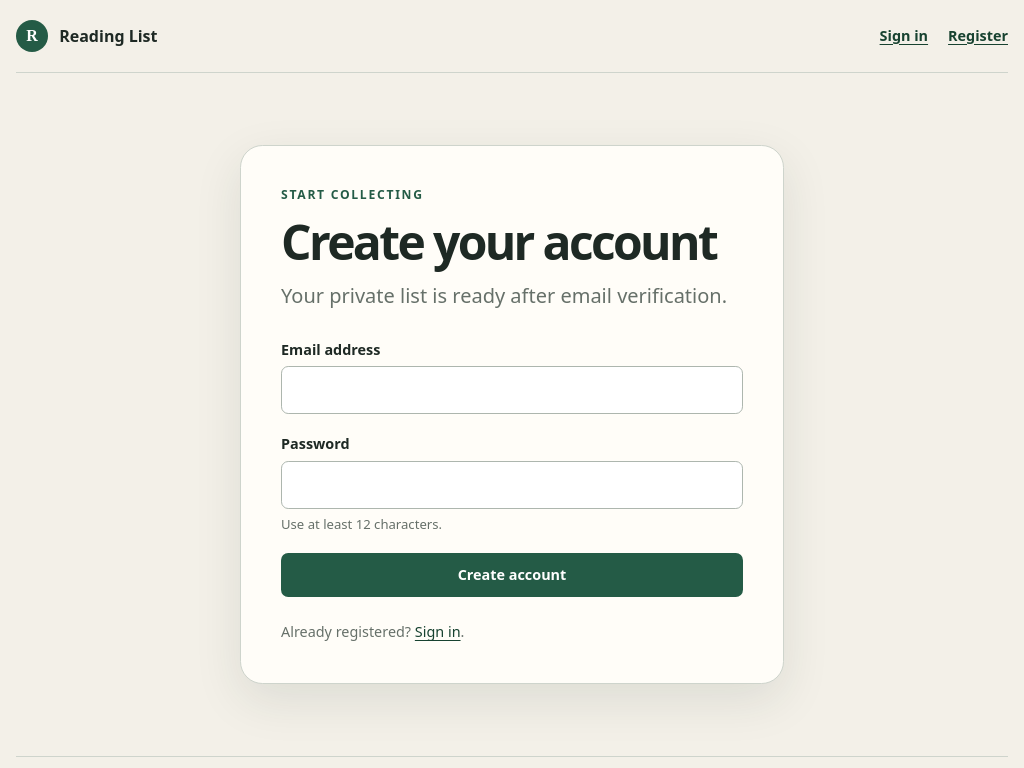
Test case: account lifecycle › shows the enumeration-safe accepted registration state
expect the heading "Create your account" is shown: met, box [281, 216, 743, 266]
Step 1. Type "new@example.test" into the field labelled "Email address" → (512, 390), box [281, 366, 743, 414]
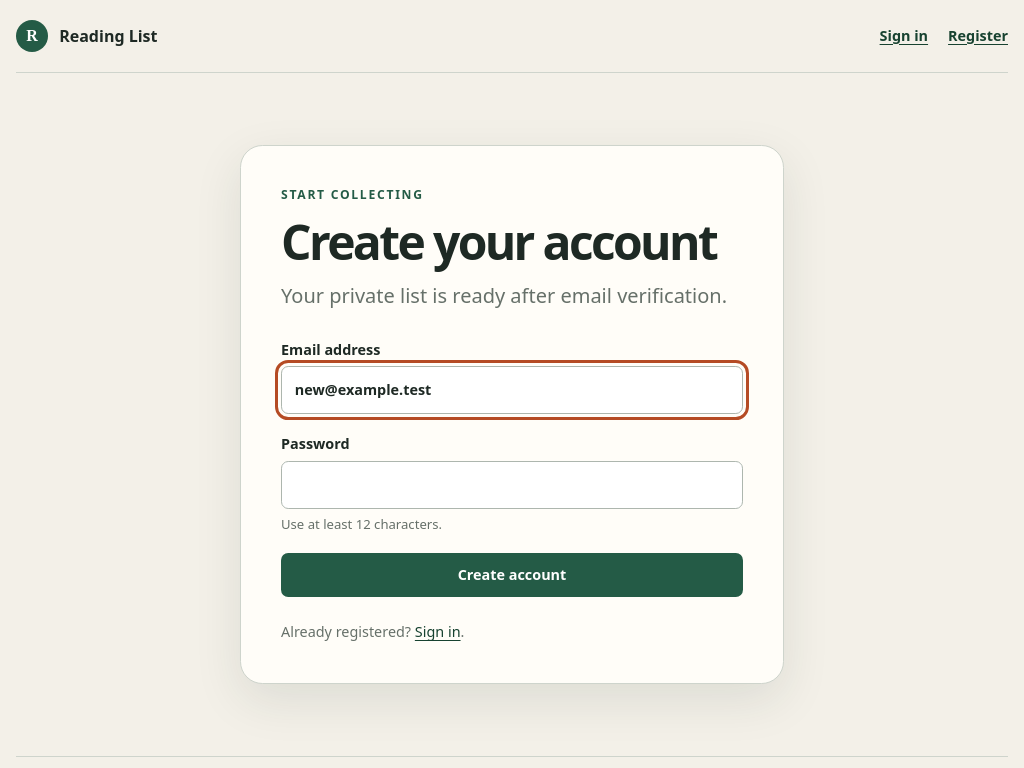
Step 2. Type "a sufficiently long password" into the password field labelled "Password" → (512, 485), box [281, 461, 743, 509]
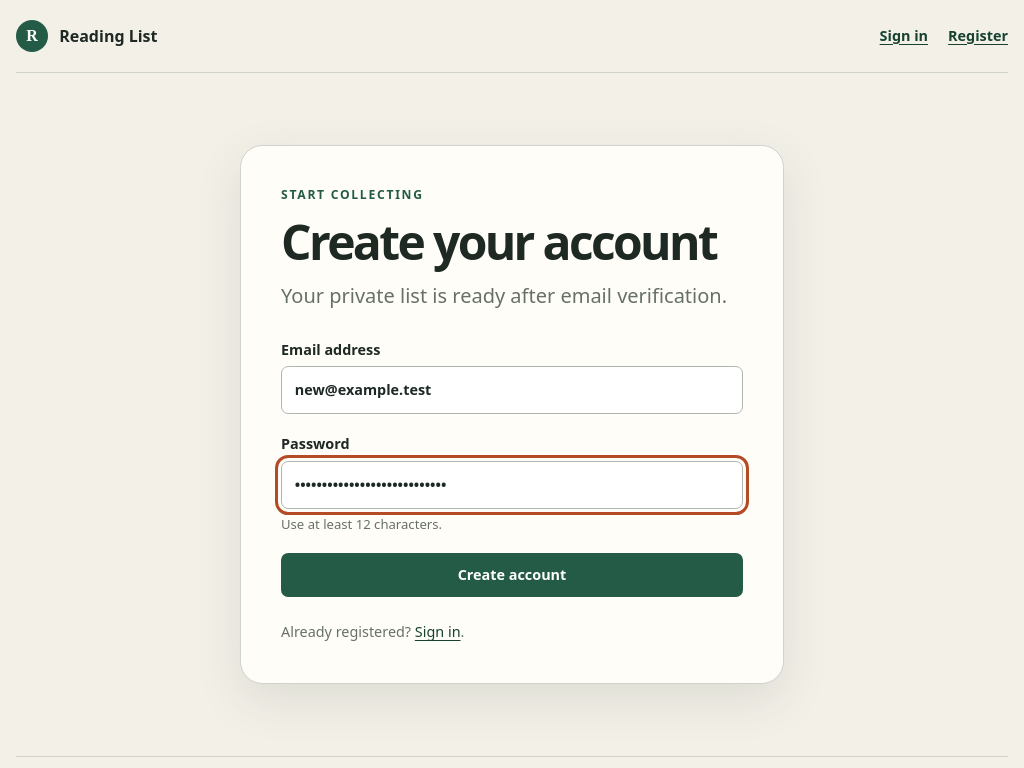
Step 3. Click the button "Create account" → (512, 575), box [281, 553, 743, 597]
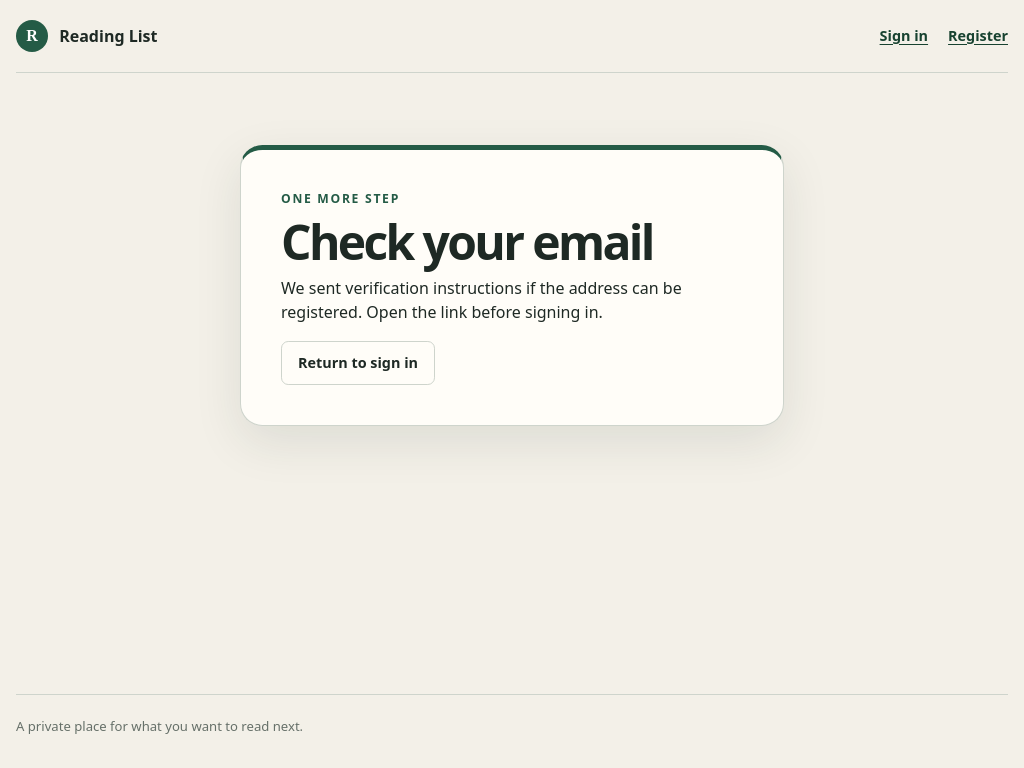
expect the heading "Check your email" is shown: met, box [281, 208, 653, 274]
expect the text "if the address can be registered" is shown: met, box [281, 276, 682, 323]
